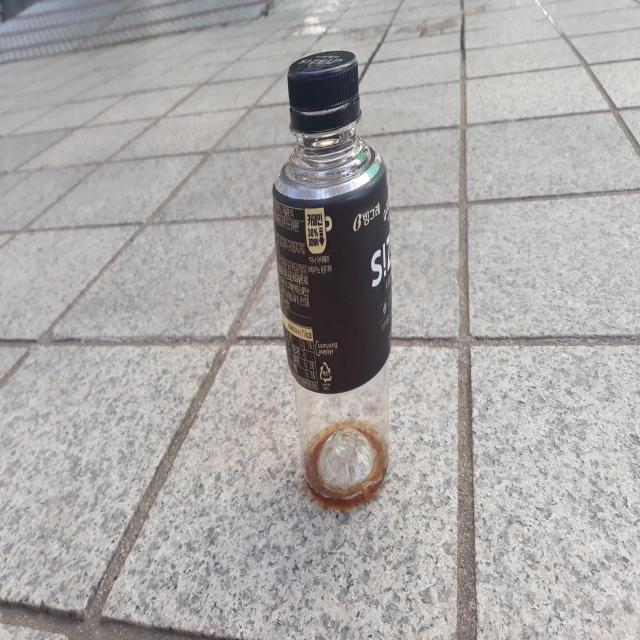plastic: (273, 50, 392, 506)
